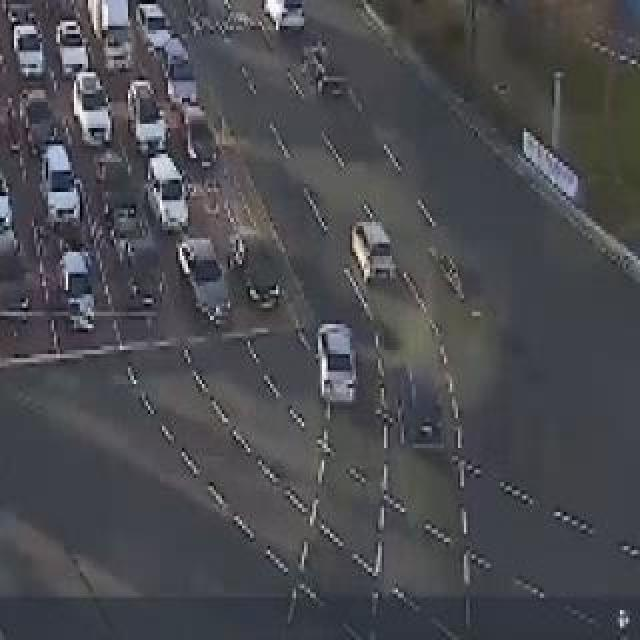truck: (84, 0, 140, 76)
